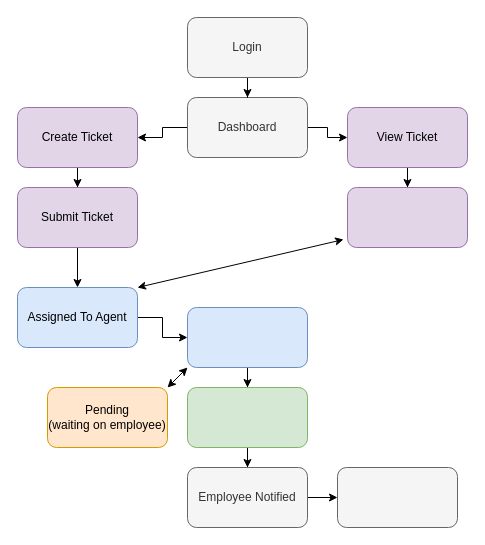
Image size: 485x545. Some labels were removed from this diagram. Here are the shapes that lost their labels. From the top down, the box of each, then its label:
(346, 186, 468, 248): Edit Ticket
(186, 306, 308, 368): In Progress
(186, 386, 308, 448): Resolved
(336, 466, 458, 528): Closed
